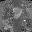people: (12, 7, 23, 19)
